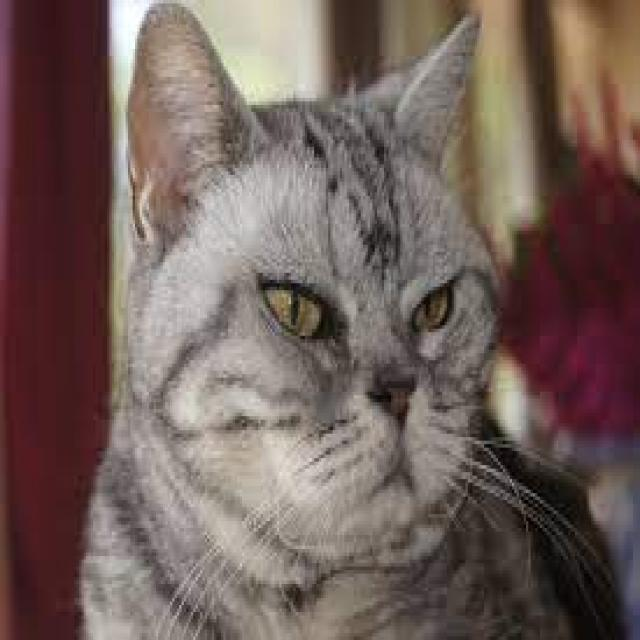cat-face: (84, 38, 581, 586)
